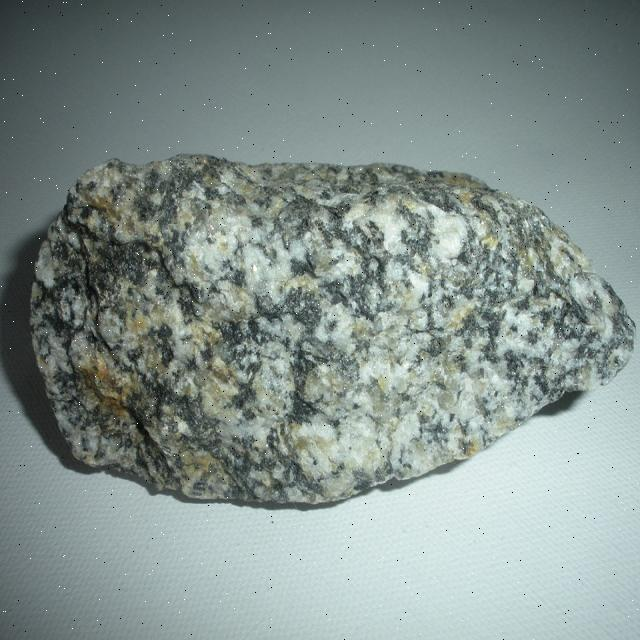Igneous: (8, 141, 640, 518)
